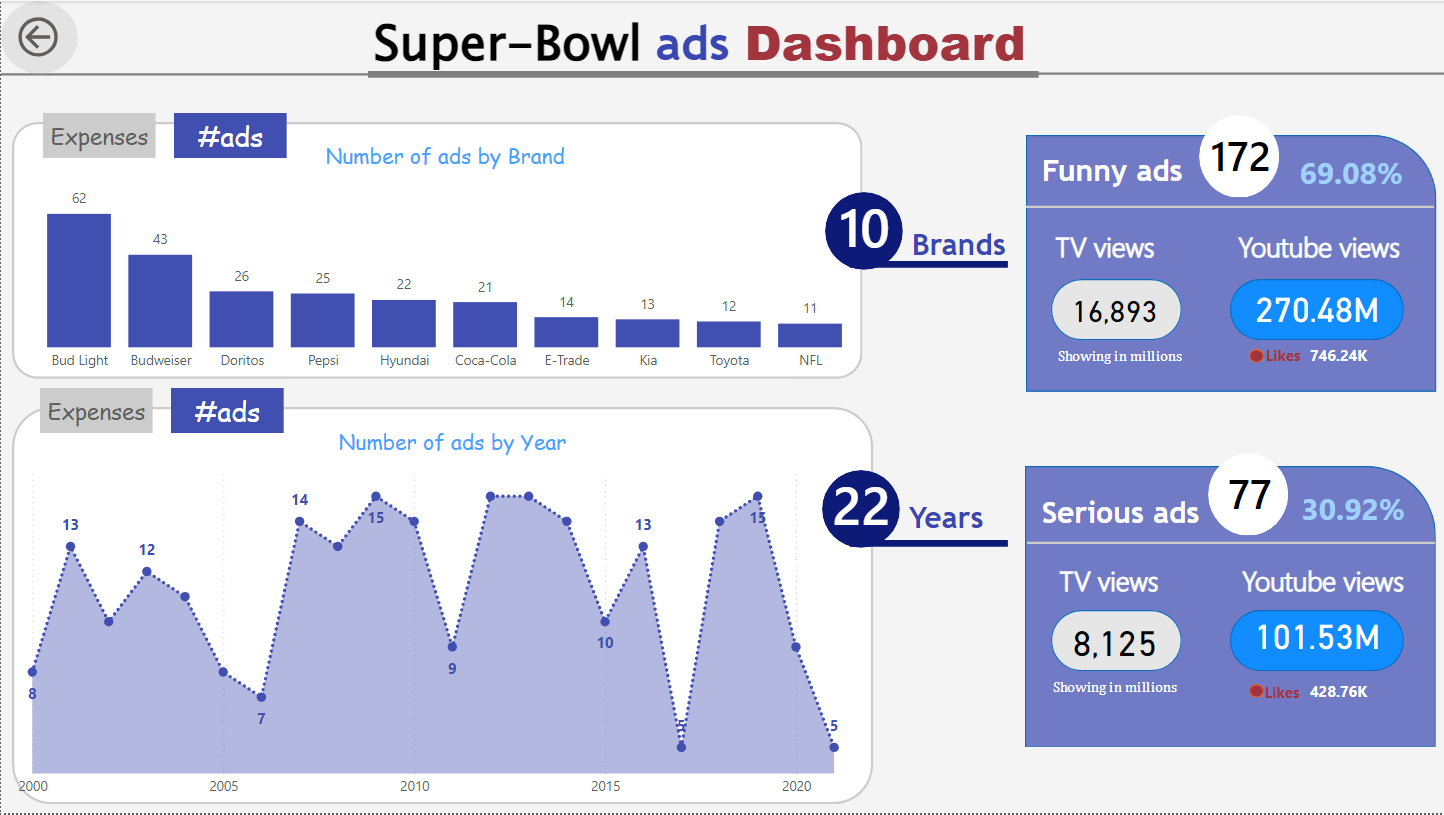

The page's visual inventory and layout, read from the dashboard file:
{"tool":"powerbi","page":{"name":"Detail","canvas":[1280,720],"ordinal":1},"visuals":[{"type":"actionButton","title":"Ad cost","box":[37.2,98.9,100,40.4],"z":0,"group":"g3"},{"type":"shape","box":[1062.4,101,71.3,73.4],"z":0,"group":"g6"},{"type":"shape","box":[9.6,107.4,754.3,227.7],"z":0},{"type":"columnChart","title":"Number of ads by Brand","fields":{"Y":["Measure Table.Total records"],"Category":["DimBrands.Brand"]},"box":[7,122.7,773.4,213.8],"z":0,"group":"g5"},{"type":"shape","box":[730.8,169.1,69.1,69.1],"z":0,"group":"g1"},{"type":"shape","box":[1089.4,246.8,154.3,54.3],"z":0,"group":"g9"},{"type":"actionButton","title":"Ad cost","box":[34.9,342.8,100,40.4],"z":0,"group":"g10"},{"type":"shape","box":[1070.2,401.1,71.3,73.4],"z":0,"group":"g7"},{"type":"shape","box":[728.7,415.9,69.1,69.1],"z":0,"group":"g2"},{"type":"shape","box":[1089.4,540.4,154.3,54.3],"z":0,"group":"g8"},{"type":"card","fields":{"Values":["Measure Table.Funny Ads"]},"box":[1055,94.6,88.3,84],"z":1000,"group":"g6"},{"type":"actionButton","title":"#ads","box":[153.2,98.9,100,40.4],"z":1000,"group":"g3"},{"type":"actionButton","title":"#ads","box":[153.2,98.9,100,40.4],"z":1000,"group":"g4"},{"type":"card","fields":{"Values":["Measure Table.#brands"]},"box":[723.4,158.5,84,79.8],"z":1000,"group":"g1"},{"type":"shape","box":[930.9,246.8,116,54.3],"z":1000,"group":"g9"},{"type":"actionButton","title":"#ads","box":[150.9,342.8,100,40.4],"z":1000,"group":"g10"},{"type":"actionButton","title":"#ads","box":[150.9,342.8,100,40.4],"z":1000,"group":"g11"},{"type":"shape","box":[9.9,360.3,763.7,352.3],"z":1000},{"type":"areaChart","title":"Number of ads by Year","fields":{"Category":["DimYear.Year"],"Y":["Measure Table.Total records"]},"box":[9.9,376.1,780.9,337.2],"z":1000,"group":"g12"},{"type":"card","fields":{"Values":["Measure Table.Serious Ads"]},"box":[1062.8,394.7,88.3,84],"z":1000,"group":"g7"},{"type":"card","fields":{"Values":["Measure Table.#years"]},"box":[721.3,405.3,84,79.8],"z":1000,"group":"g2"},{"type":"shape","box":[930.9,540.4,116,54.3],"z":1000,"group":"g8"},{"type":"textbox","box":[325.2,0,631.9,103.4],"z":3000},{"type":"shape","box":[325.2,52.3,594.7,25.6],"z":4000},{"type":"shape","box":[0,52.3,594.7,25.6],"z":5000},{"type":"shape","box":[335.7,56.9,944.3,15.1],"z":6000},{"type":"group","id":"g1","title":"#brands","box":[723.4,158.5,84,79.8],"z":7000},{"type":"group","id":"g2","title":"#years","box":[721.3,405.3,84,79.8],"z":8000},{"type":"shape","box":[753.2,221,140.4,25.5],"z":9000},{"type":"shape","box":[753.2,468,140.4,25.5],"z":10000},{"type":"textbox","box":[802.1,194.7,118.1,86.2],"z":11000},{"type":"textbox","box":[800,437.2,118.1,86.2],"z":12000},{"type":"shape","box":[908.5,119.1,363.8,227.7],"z":13000},{"type":"shape","box":[908.4,412.6,364.4,249.4],"z":14000},{"type":"textbox","box":[918.1,129.8,161.7,69.1],"z":15000},{"type":"textbox","box":[918.1,433,161.7,69.1],"z":16000},{"type":"group","id":"g3","title":"inactive btn","box":[37.2,98.9,216,40.4],"z":17000},{"type":"group","id":"g4","title":"active btn","box":[37.2,98.9,216,40.4],"z":18000},{"type":"group","id":"g5","title":"Brand Charts","box":[6,122,774.4,214.6],"z":19000},{"type":"shape","box":[908.5,170.2,361.7,24.5],"z":20000},{"type":"shape","box":[909.6,468.1,361.7,24.5],"z":21000},{"type":"group","id":"g6","title":"#funnyads","box":[1055,94.6,88.3,84],"z":22000},{"type":"group","id":"g7","title":"#seriousads","box":[1062.8,394.7,88.3,84],"z":23000},{"type":"card","title":"funnyAd %","fields":{"Values":["Measure Table.funnyAD %"]},"box":[1131.9,110.6,129.8,84],"z":24000},{"type":"card","title":"funnyAd %","fields":{"Values":["Measure Table.seriousAD %"]},"box":[1134,408.5,129.8,84],"z":25000},{"type":"textbox","title":"tv views","box":[920.2,492.6,343.6,51.1],"z":26000},{"type":"textbox","title":"tv views","box":[917,195.7,343.6,51.1],"z":27000},{"type":"group","id":"g8","title":"Group 1","box":[930.9,540.4,312.8,54.3],"z":28000},{"type":"group","id":"g9","title":"Group 1","box":[930.9,246.8,312.8,54.3],"z":29000},{"type":"card","fields":{"Values":["Measure Table.youtube funny ads"]},"box":[1099.3,233,134.5,77],"z":30000},{"type":"card","fields":{"Values":["Measure Table.youtube serious ads"]},"box":[1099.3,523.5,134.5,77],"z":31000},{"type":"card","fields":{"Values":["Measure Table.Funny Tv views"]},"box":[919.7,238.1,135.5,70.8],"z":32000},{"type":"card","fields":{"Values":["Measure Table.Serious Tv views"]},"box":[932,529.7,111.9,76],"z":33000},{"type":"shape","box":[1106.5,309,13.3,12.3],"z":34000},{"type":"shape","box":[1106.5,605.6,13.3,12.3],"z":35000},{"type":"textbox","box":[932,300.8,140.6,49.3],"z":36000},{"type":"textbox","box":[927.9,594.3,140.6,49.3],"z":37000},{"type":"textbox","box":[1116,300.8,140.6,49.3],"z":38000},{"type":"textbox","box":[1115.8,599,140.6,49.3],"z":39000},{"type":"card","fields":{"Values":["Measure Table.youtube likes funny ads"]},"box":[1134.2,294,103.7,45.2],"z":40000},{"type":"card","fields":{"Values":["Measure Table.youtube likes serious ads"]},"box":[1134.2,592,103.7,45.2],"z":41000},{"type":"group","id":"g10","title":"inactive btn year","box":[34.9,342.8,215.6,41.1],"z":43000},{"type":"group","id":"g11","title":"active btn year","box":[34.9,342.8,215.6,41.1],"z":44000},{"type":"group","id":"g12","title":"year charts","box":[9.9,375.6,781.1,337.7],"z":44500},{"type":"actionButton","box":[0,0,68.3,64.7],"z":44501}]}

Visuals, with their boxes in screenshot pixels (x1, y1, x2, y2), scaled from the page's 1280x720 canvas onto the 1444x815 screenshot:
"Ad cost" actionButton: <region>42, 112, 155, 158</region>
shape: <region>1199, 114, 1279, 197</region>
shape: <region>11, 122, 862, 379</region>
"Number of ads by Brand" columnChart: <region>8, 139, 880, 381</region>
shape: <region>824, 191, 902, 270</region>
shape: <region>1229, 279, 1403, 341</region>
"Ad cost" actionButton: <region>39, 388, 152, 434</region>
shape: <region>1207, 454, 1288, 537</region>
shape: <region>822, 471, 900, 549</region>
shape: <region>1229, 612, 1403, 673</region>
card - Measure Table.Funny Ads: <region>1190, 107, 1290, 202</region>
"#ads" actionButton: <region>173, 112, 286, 158</region>
"#ads" actionButton: <region>173, 112, 286, 158</region>
card - Measure Table.#brands: <region>816, 179, 911, 270</region>
shape: <region>1050, 279, 1181, 341</region>
"#ads" actionButton: <region>170, 388, 283, 434</region>
"#ads" actionButton: <region>170, 388, 283, 434</region>
shape: <region>11, 408, 873, 807</region>
"Number of ads by Year" areaChart: <region>11, 426, 892, 807</region>
card - Measure Table.Serious Ads: <region>1199, 447, 1299, 542</region>
card - Measure Table.#years: <region>814, 459, 908, 549</region>
shape: <region>1050, 612, 1181, 673</region>
textbox: <region>367, 0, 1080, 117</region>
shape: <region>367, 59, 1038, 88</region>
shape: <region>0, 59, 671, 88</region>
shape: <region>379, 64, 1443, 82</region>
"#brands" group: <region>816, 179, 911, 270</region>
"#years" group: <region>814, 459, 908, 549</region>
shape: <region>850, 250, 1008, 279</region>
shape: <region>850, 530, 1008, 559</region>
textbox: <region>905, 220, 1038, 318</region>
textbox: <region>902, 495, 1036, 592</region>
shape: <region>1025, 135, 1435, 393</region>
shape: <region>1025, 467, 1436, 749</region>
textbox: <region>1036, 147, 1218, 225</region>
textbox: <region>1036, 490, 1218, 568</region>
"inactive btn" group: <region>42, 112, 286, 158</region>
"active btn" group: <region>42, 112, 286, 158</region>
"Brand Charts" group: <region>7, 138, 880, 381</region>
shape: <region>1025, 193, 1433, 220</region>
shape: <region>1026, 530, 1434, 558</region>
"#funnyads" group: <region>1190, 107, 1290, 202</region>
"#seriousads" group: <region>1199, 447, 1299, 542</region>
"funnyAd %" card: <region>1277, 125, 1423, 220</region>
"funnyAd %" card: <region>1279, 462, 1426, 557</region>
"tv views" textbox: <region>1038, 558, 1426, 615</region>
"tv views" textbox: <region>1034, 222, 1422, 279</region>
"Group 1" group: <region>1050, 612, 1403, 673</region>
"Group 1" group: <region>1050, 279, 1403, 341</region>
card - Measure Table.youtube funny ads: <region>1240, 264, 1392, 351</region>
card - Measure Table.youtube serious ads: <region>1240, 593, 1392, 680</region>
card - Measure Table.Funny Tv views: <region>1038, 270, 1190, 350</region>
card - Measure Table.Serious Tv views: <region>1051, 600, 1178, 686</region>
shape: <region>1248, 350, 1263, 364</region>
shape: <region>1248, 686, 1263, 699</region>
textbox: <region>1051, 340, 1210, 396</region>
textbox: <region>1047, 673, 1205, 729</region>
textbox: <region>1259, 340, 1418, 396</region>
textbox: <region>1259, 678, 1417, 734</region>
card - Measure Table.youtube likes funny ads: <region>1280, 333, 1397, 384</region>
card - Measure Table.youtube likes serious ads: <region>1280, 670, 1397, 721</region>
"inactive btn year" group: <region>39, 388, 283, 435</region>
"active btn year" group: <region>39, 388, 283, 435</region>
"year charts" group: <region>11, 425, 892, 807</region>
actionButton: <region>0, 0, 77, 73</region>
